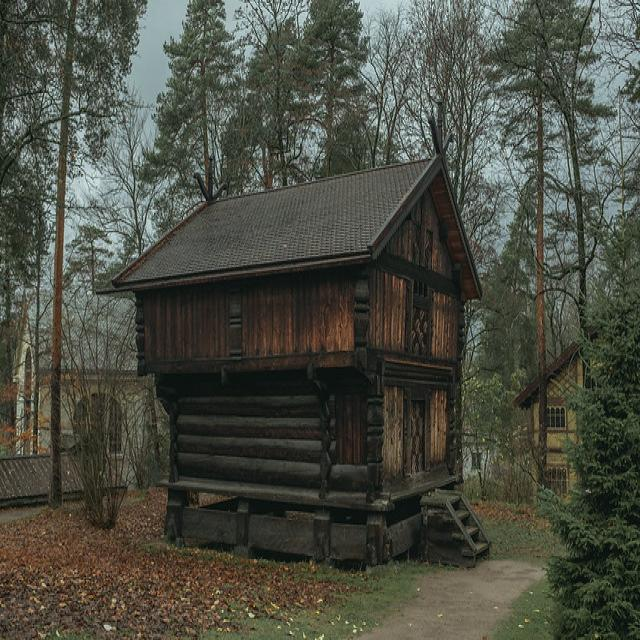Normal_building: (116, 152, 488, 572)
